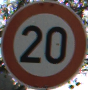20 km speed: (1, 1, 87, 90)
